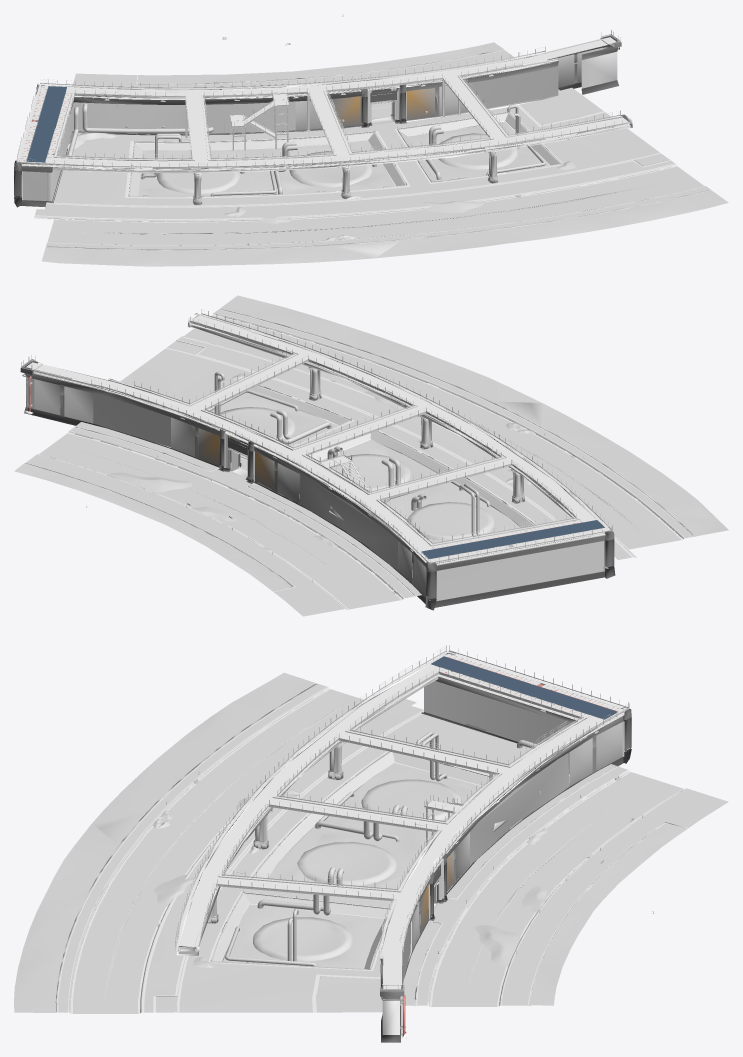
The model's file is cell_86_56.fbx.
3 views of the same model, one above another, from view 1: azimuth 30°, elevation 25°; view 2: azimuth 150°, elevation 25°; view 3: azimuth 270°, elevation 25° (orthographic). The views are drawn at different scales.
Visible parts, largest first — view 1: SM_I_RoadFacility_Ground_A_08.mo, SM_H_Building_FutureTech_Aerospace_02.mo, SM_I_RoadFacility_Ground_A_07.mo, SM_I_RoadFacility_Ground_A_05.mo, SM_I_RoadFacility_Pipe_A_01.mo, SM_H_Building_FutureTech_Aerospace_02D_03.mo, SM_I_RoadFacility_Ground_A_07B.mo, SM_H_Building_FutureTech_Aerospace_02D_02.mo, SM_H_WalkwaySystem_MetalSupport_12.mo.001, SM_H_Building_FutureTech_Aerospace_02C.mo, SM_H_Building_FutureTech_Aerospace_02D_01.mo, SM_H_Building_FutureTech_Aerospace_02D_05.mo (+3 smaller); view 2: SM_H_Building_FutureTech_Aerospace_02.mo, SM_I_RoadFacility_Ground_A_07.mo, SM_I_RoadFacility_Ground_A_05.mo, SM_I_RoadFacility_Ground_A_08.mo, SM_I_RoadFacility_Pipe_A_01.mo, SM_H_Building_FutureTech_Aerospace_02D_01.mo, SM_H_Building_FutureTech_Aerospace_02D_03.mo, SM_H_Building_FutureTech_Aerospace_02D_05.mo, SM_H_Building_FutureTech_Aerospace_02D_02.mo, SM_H_Building_FutureTech_Aerospace_02D_04.mo, SM_I_RoadFacility_Ground_A_05B.mo, SM_I_RoadFacility_Ground_A_07B.mo (+4 smaller); view 3: SM_I_RoadFacility_Ground_A_08.mo, SM_H_Building_FutureTech_Aerospace_02.mo, SM_I_RoadFacility_Ground_A_07.mo, SM_I_RoadFacility_Ground_A_05.mo, SM_I_RoadFacility_Pipe_A_01.mo, SM_H_Building_FutureTech_Aerospace_02D_01.mo, SM_H_Building_FutureTech_Aerospace_02D_05.mo, SM_I_RoadFacility_Ground_A_07B.mo, SM_H_Building_FutureTech_Aerospace_02D_04.mo, SM_H_Building_FutureTech_Aerospace_02D_03.mo, SM_I_Terrain_Road_Desert_Decal_Sand_09.mo.054, SM_H_Building_FutureTech_Aerospace_02D_02.mo (+3 smaller).
Part boxes in pixels (left/top/right/bottom): SM_I_RoadFacility_Ground_A_08.mo: left=34, top=87, right=677, bottom=222; SM_H_Building_FutureTech_Aerospace_02.mo: left=14, top=35, right=632, bottom=207; SM_I_RoadFacility_Ground_A_07.mo: left=41, top=166, right=728, bottom=266; SM_I_RoadFacility_Ground_A_05.mo: left=72, top=42, right=559, bottom=118; SM_I_RoadFacility_Pipe_A_01.mo: left=67, top=103, right=545, bottom=196; SM_H_Building_FutureTech_Aerospace_02D_03.mo: left=17, top=118, right=630, bottom=167; SM_I_RoadFacility_Ground_A_07B.mo: left=51, top=168, right=694, bottom=245; SM_H_Building_FutureTech_Aerospace_02D_02.mo: left=40, top=30, right=620, bottom=88; SM_H_WalkwaySystem_MetalSupport_12.mo.001: left=230, top=94, right=288, bottom=150; SM_H_Building_FutureTech_Aerospace_02C.mo: left=22, top=47, right=628, bottom=169; SM_H_Building_FutureTech_Aerospace_02D_01.mo: left=16, top=83, right=192, bottom=161; SM_H_Building_FutureTech_Aerospace_02D_05.mo: left=326, top=74, right=490, bottom=152; SM_H_Building_FutureTech_Aerospace_02.mo: left=20, top=313, right=615, bottom=610; SM_I_RoadFacility_Ground_A_07.mo: left=184, top=295, right=728, bottom=549; SM_I_RoadFacility_Ground_A_05.mo: left=14, top=422, right=421, bottom=616; SM_I_RoadFacility_Ground_A_08.mo: left=120, top=336, right=636, bottom=574; SM_I_RoadFacility_Pipe_A_01.mo: left=206, top=371, right=490, bottom=559; SM_H_Building_FutureTech_Aerospace_02D_01.mo: left=380, top=460, right=611, bottom=563; SM_H_Building_FutureTech_Aerospace_02D_03.mo: left=201, top=309, right=612, bottom=530; SM_H_Building_FutureTech_Aerospace_02D_05.mo: left=204, top=355, right=413, bottom=448; SM_H_Building_FutureTech_Aerospace_02D_02.mo: left=21, top=355, right=429, bottom=563; SM_H_Building_FutureTech_Aerospace_02D_04.mo: left=306, top=407, right=501, bottom=493; SM_I_RoadFacility_Ground_A_05B.mo: left=44, top=437, right=397, bottom=605; SM_I_RoadFacility_Ground_A_07B.mo: left=197, top=318, right=676, bottom=546; SM_I_RoadFacility_Ground_A_08.mo: left=138, top=699, right=569, bottom=1013; SM_H_Building_FutureTech_Aerospace_02.mo: left=175, top=651, right=631, bottom=1042; SM_I_RoadFacility_Ground_A_07.mo: left=14, top=672, right=365, bottom=1013; SM_I_RoadFacility_Ground_A_05.mo: left=396, top=764, right=728, bottom=1006; SM_I_RoadFacility_Pipe_A_01.mo: left=225, top=731, right=586, bottom=966; SM_H_Building_FutureTech_Aerospace_02D_01.mo: left=349, top=645, right=628, bottom=765; SM_H_Building_FutureTech_Aerospace_02D_05.mo: left=222, top=800, right=437, bottom=890; SM_I_RoadFacility_Ground_A_07B.mo: left=73, top=691, right=355, bottom=1013; SM_H_Building_FutureTech_Aerospace_02D_04.mo: left=277, top=734, right=497, bottom=822; SM_H_Building_FutureTech_Aerospace_02D_03.mo: left=175, top=645, right=446, bottom=947; SM_I_Terrain_Road_Desert_Decal_Sand_09.mo.054: left=474, top=925, right=521, bottom=966; SM_H_Building_FutureTech_Aerospace_02D_02.mo: left=380, top=703, right=629, bottom=990.
Size of the model in its own units: 136 by 10.64 by 112.
